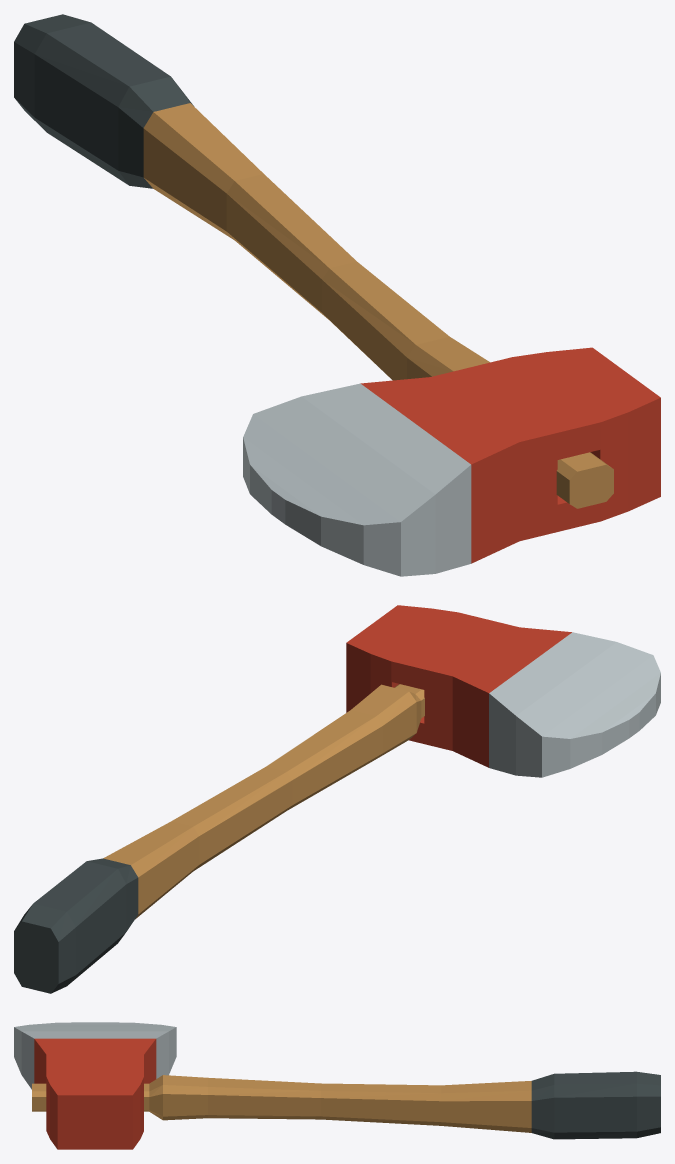
3 views of the same model, one above another, from view 1: azimuth 30°, elevation 25°; view 2: azimuth 150°, elevation 25°; view 3: azimuth 270°, elevation 25° (orthographic). The views are drawn at different scales.
Parts seen in each view (by area): view 1: Axe_ContinuousBoredHead, Axe_ContinuousCurvedHandle; view 2: Axe_ContinuousBoredHead, Axe_ContinuousCurvedHandle; view 3: Axe_ContinuousCurvedHandle, Axe_ContinuousBoredHead.
Boxes of the visible parts, x1=… form: Axe_ContinuousBoredHead: x1=243, y1=347, x2=660, y2=576; Axe_ContinuousCurvedHandle: x1=14, y1=14, x2=613, y2=508; Axe_ContinuousBoredHead: x1=346, y1=605, x2=660, y2=777; Axe_ContinuousCurvedHandle: x1=14, y1=684, x2=424, y2=993; Axe_ContinuousCurvedHandle: x1=32, y1=1071, x2=660, y2=1139; Axe_ContinuousBoredHead: x1=14, y1=1022, x2=176, y2=1149.
Bounding box in the file's own units: 0.294 × 0.08 × 0.86.
